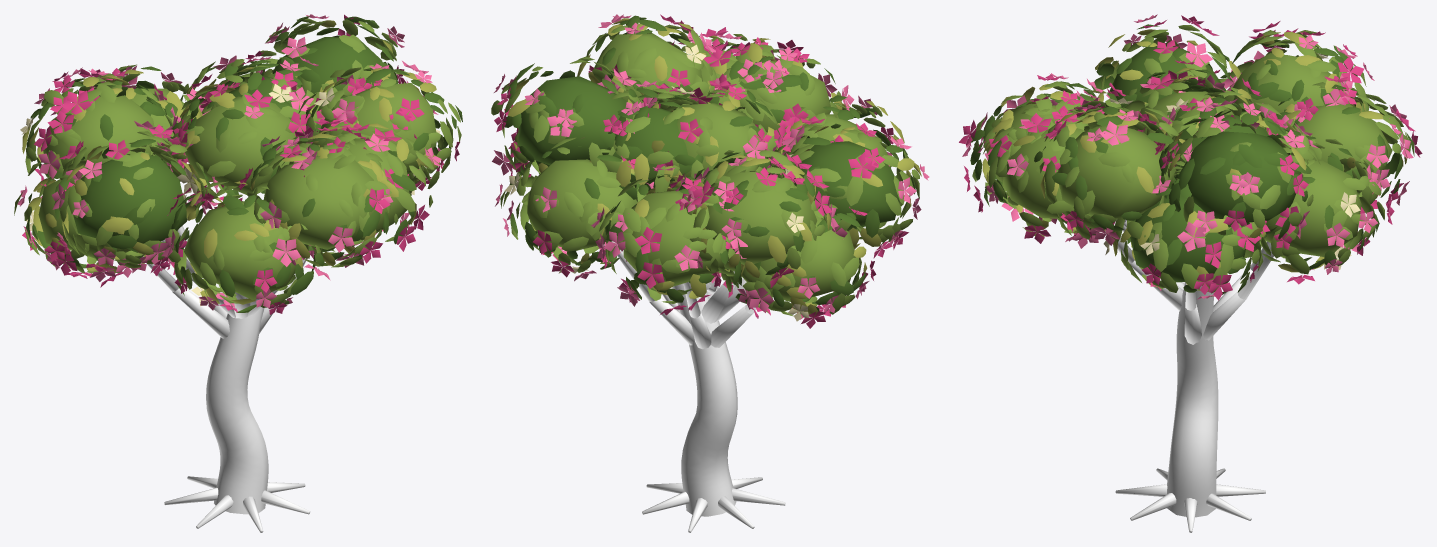
The model's file is FlowerTree.glb.
3 renders of one model, left to right at view 1: azimuth 30°, elevation 25°; view 2: azimuth 150°, elevation 25°; view 3: azimuth 270°, elevation 25°, orthographic. The views are drawn at different scales.
Visible parts, largest first — view 1: RK_FlowerTree_RK_Leaf, RK_FlowerTree_RK_LeafDark, RK_FlowerTree_RK_Bark, RK_FlowerTree_RK_FlowerPink, RK_FlowerTree_RK_FlowerRose, RK_FlowerTree_RK_LeafGold, RK_FlowerTree_RK_FlowerCream; view 2: RK_FlowerTree_RK_Leaf, RK_FlowerTree_RK_LeafDark, RK_FlowerTree_RK_Bark, RK_FlowerTree_RK_FlowerPink, RK_FlowerTree_RK_FlowerRose, RK_FlowerTree_RK_LeafGold, RK_FlowerTree_RK_FlowerCream; view 3: RK_FlowerTree_RK_Leaf, RK_FlowerTree_RK_LeafDark, RK_FlowerTree_RK_Bark, RK_FlowerTree_RK_FlowerRose, RK_FlowerTree_RK_FlowerPink, RK_FlowerTree_RK_LeafGold, RK_FlowerTree_RK_FlowerCream.
Part boxes in pixels (<box>): RK_FlowerTree_RK_Leaf: <box>14,18,461,307</box>; RK_FlowerTree_RK_LeafDark: <box>26,16,462,312</box>; RK_FlowerTree_RK_Bark: <box>142,226,310,532</box>; RK_FlowerTree_RK_FlowerPink: <box>22,14,459,314</box>; RK_FlowerTree_RK_FlowerRose: <box>17,14,441,310</box>; RK_FlowerTree_RK_LeafGold: <box>22,20,440,304</box>; RK_FlowerTree_RK_FlowerCream: <box>20,84,440,306</box>; RK_FlowerTree_RK_Leaf: <box>491,24,919,316</box>; RK_FlowerTree_RK_LeafDark: <box>503,15,915,317</box>; RK_FlowerTree_RK_Bark: <box>611,241,785,532</box>; RK_FlowerTree_RK_FlowerPink: <box>494,14,908,328</box>; RK_FlowerTree_RK_FlowerRose: <box>492,14,929,312</box>; RK_FlowerTree_RK_LeafGold: <box>508,18,921,316</box>; RK_FlowerTree_RK_FlowerCream: <box>504,44,809,321</box>; RK_FlowerTree_RK_Leaf: <box>970,25,1410,293</box>; RK_FlowerTree_RK_LeafDark: <box>970,24,1414,296</box>; RK_FlowerTree_RK_Bark: <box>1105,219,1273,532</box>; RK_FlowerTree_RK_FlowerRose: <box>962,14,1413,299</box>; RK_FlowerTree_RK_FlowerPink: <box>959,15,1422,300</box>; RK_FlowerTree_RK_LeafGold: <box>982,29,1408,291</box>; RK_FlowerTree_RK_FlowerCream: <box>1103,47,1360,269</box>.
Bounding box in the file's own units: 5.42 × 5.84 × 5.46.
